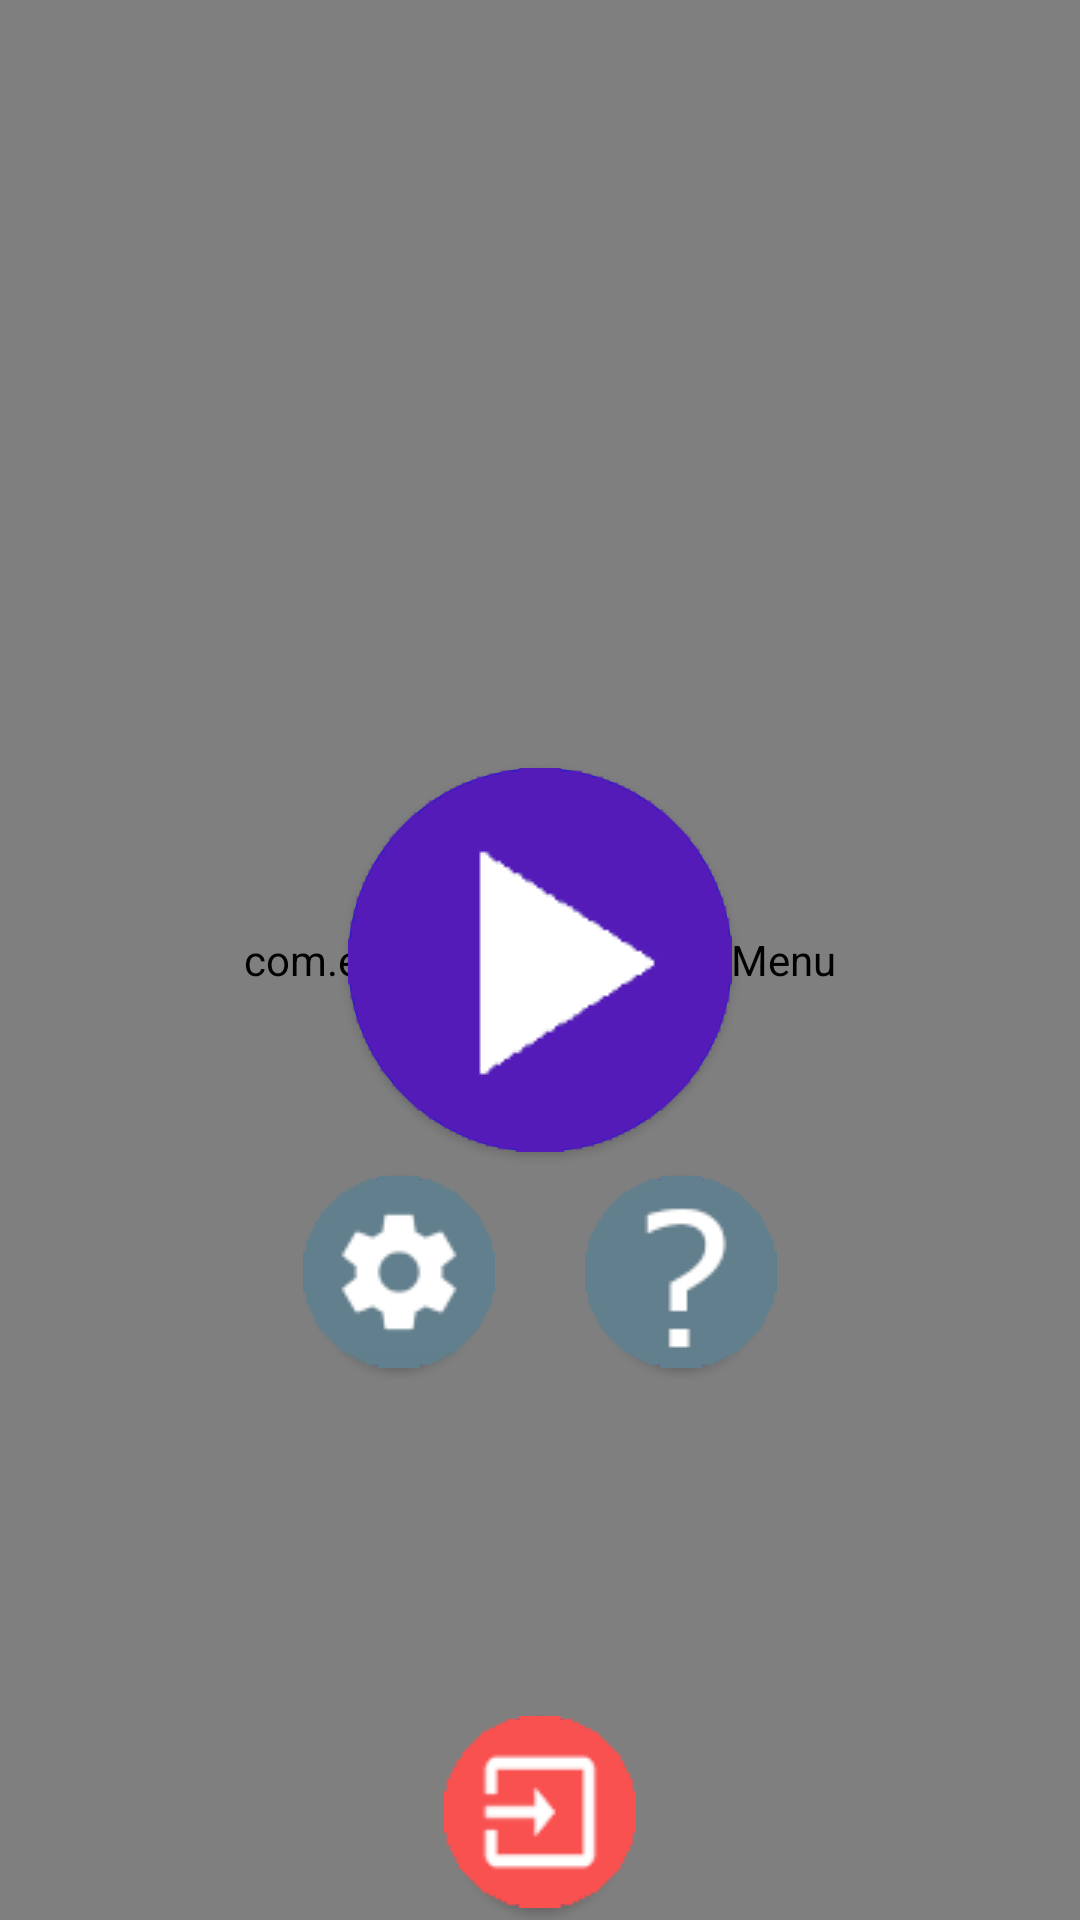

Where icons sit on this 1080w x 1920h app screen, as [x1, y1, x2, y2]:
about: [585, 1176, 777, 1368]
exit: [444, 1716, 636, 1908]
settings: [303, 1176, 495, 1368]
